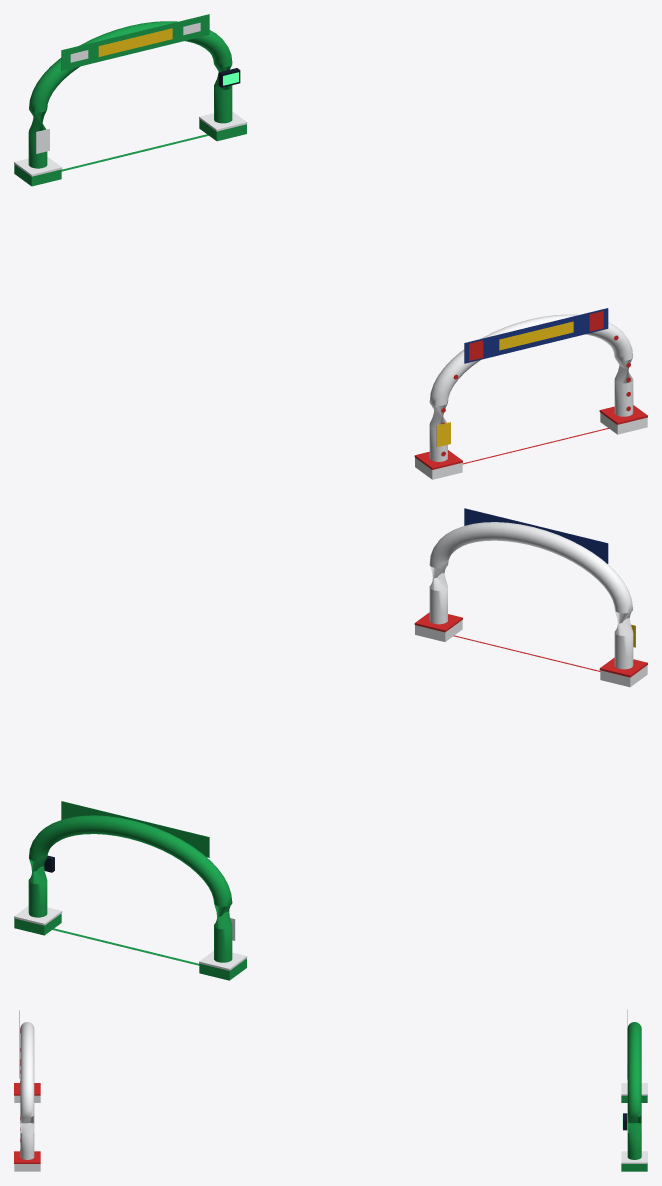
Rendered from arch_kom_sprint.glb.
3 renders of one model, top to bottom at view 1: azimuth 30°, elevation 25°; view 2: azimuth 150°, elevation 25°; view 3: azimuth 270°, elevation 25°, orthographic. The views are drawn at different scales.
Visible parts, largest first — view 1: Arch_Sprint, Arch_KOM; view 2: Arch_Sprint, Arch_KOM; view 3: Arch_Sprint, Arch_KOM.
Part boxes in pixels (box(x1,y1,x2,y2)): Arch_Sprint: box(14, 14, 247, 186); Arch_KOM: box(414, 308, 647, 479); Arch_Sprint: box(14, 801, 247, 980); Arch_KOM: box(414, 508, 647, 687); Arch_Sprint: box(621, 1009, 647, 1171); Arch_KOM: box(14, 1010, 40, 1171).
Size of the model in its own units: 9.32 by 5.25 by 31.32.
